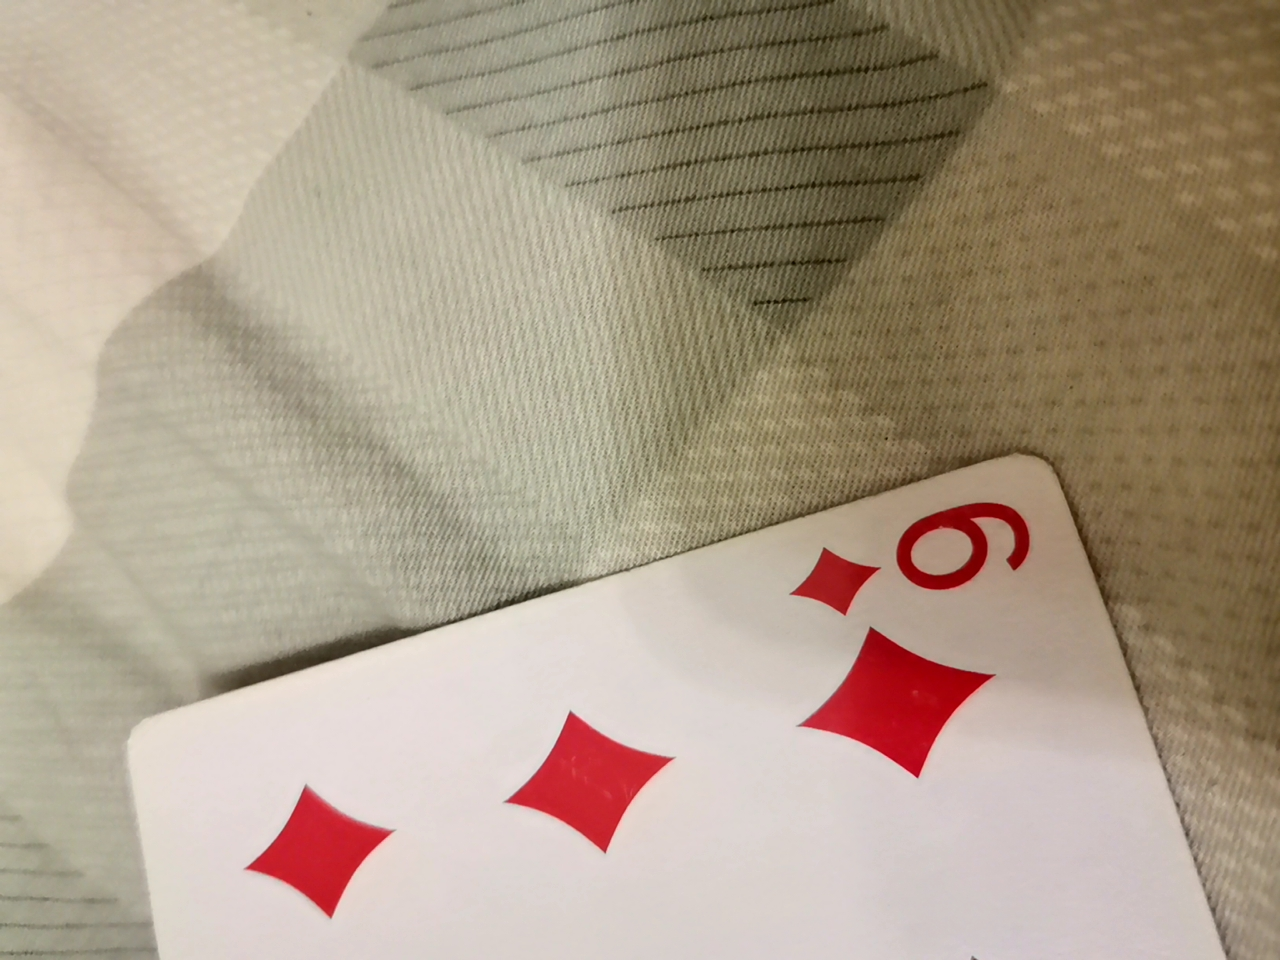fk 6: (82, 474, 1279, 956)
